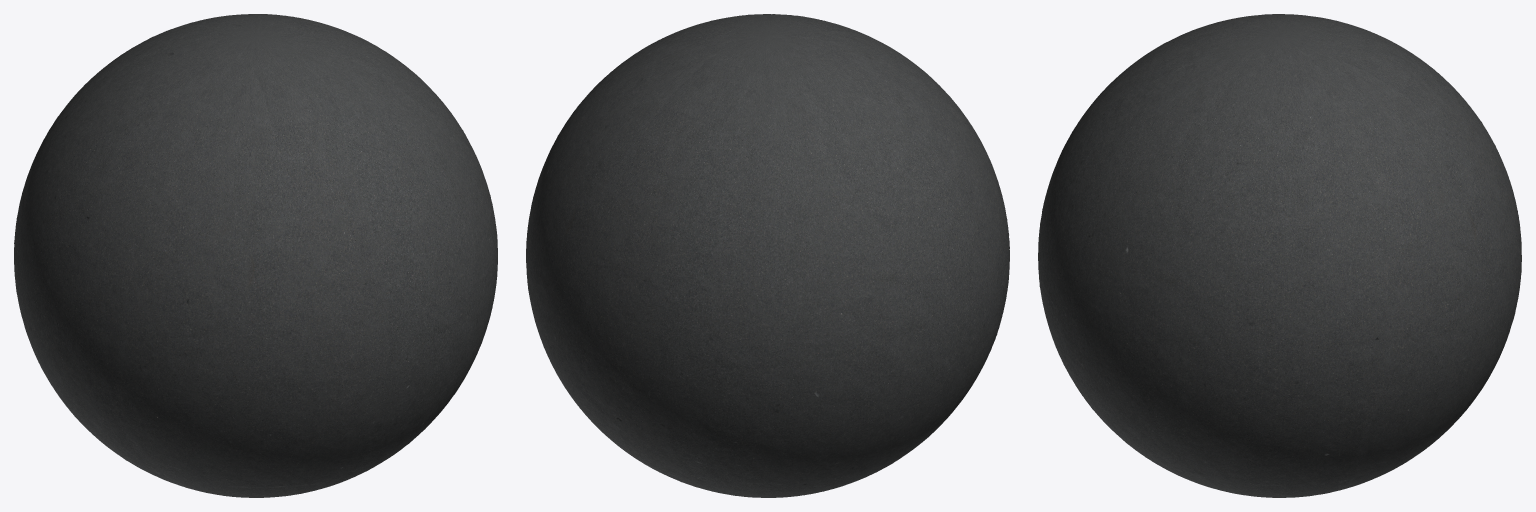
Rendered from clean_asphalt_2k.gltf.
The picture shows the model from 3 angles, left to right: view 1: azimuth 30°, elevation 25°; view 2: azimuth 150°, elevation 25°; view 3: azimuth 270°, elevation 25°; orthographic projection.
Parts seen in each view (by area): view 1: sphere_gltf; view 2: sphere_gltf; view 3: sphere_gltf.
Part boxes in pixels (left/top/right/bottom): sphere_gltf: left=14, top=14, right=497, bottom=497; sphere_gltf: left=526, top=14, right=1009, bottom=497; sphere_gltf: left=1038, top=14, right=1521, bottom=497.
Bounding box in the file's own units: 2.1 × 2.1 × 2.1.
Materials: 1 (1 with a texture image).
